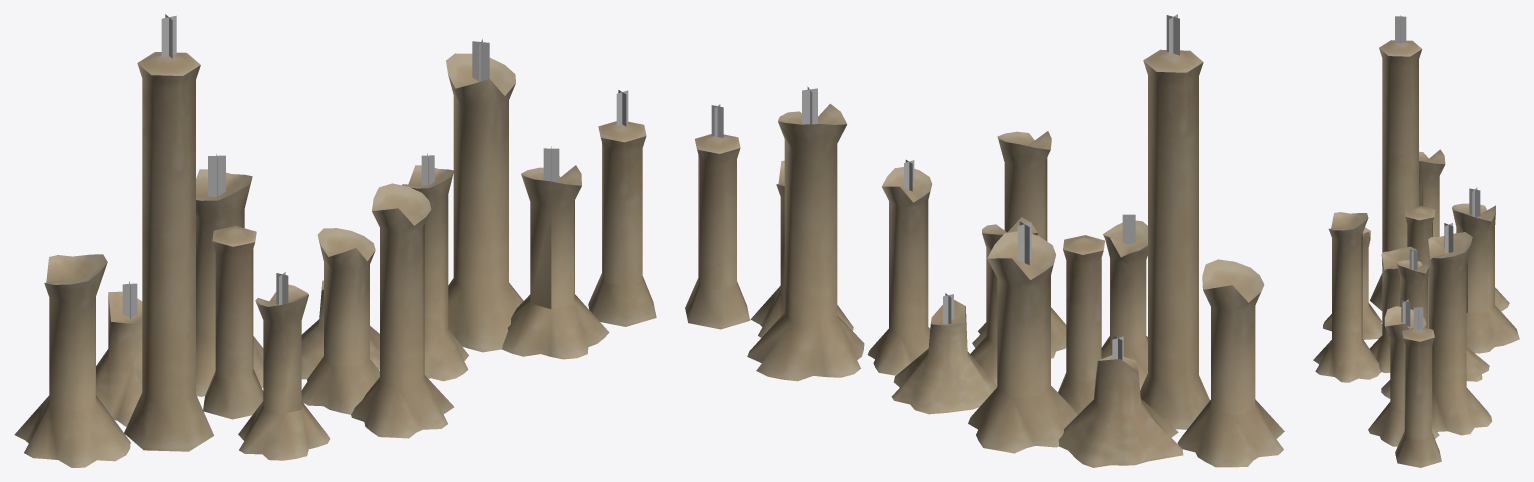
Rendered from SM_Candles_B.fbx.
3 renders of one model, left to right at view 1: azimuth 30°, elevation 25°; view 2: azimuth 150°, elevation 25°; view 3: azimuth 270°, elevation 25°, orthographic. The views are drawn at different scales.
Parts seen in each view (by area): view 1: SM_Candles_B_LOD0; view 2: SM_Candles_B_LOD0; view 3: SM_Candles_B_LOD0.
Part boxes in pixels (x1,y1,x2,y2): SM_Candles_B_LOD0: (14,14,656,467); SM_Candles_B_LOD0: (685,14,1284,467); SM_Candles_B_LOD0: (1313,15,1519,467).
Bounding box in the file's own units: 47.65 × 19.93 × 30.31.
2 materials, 1 textured.
